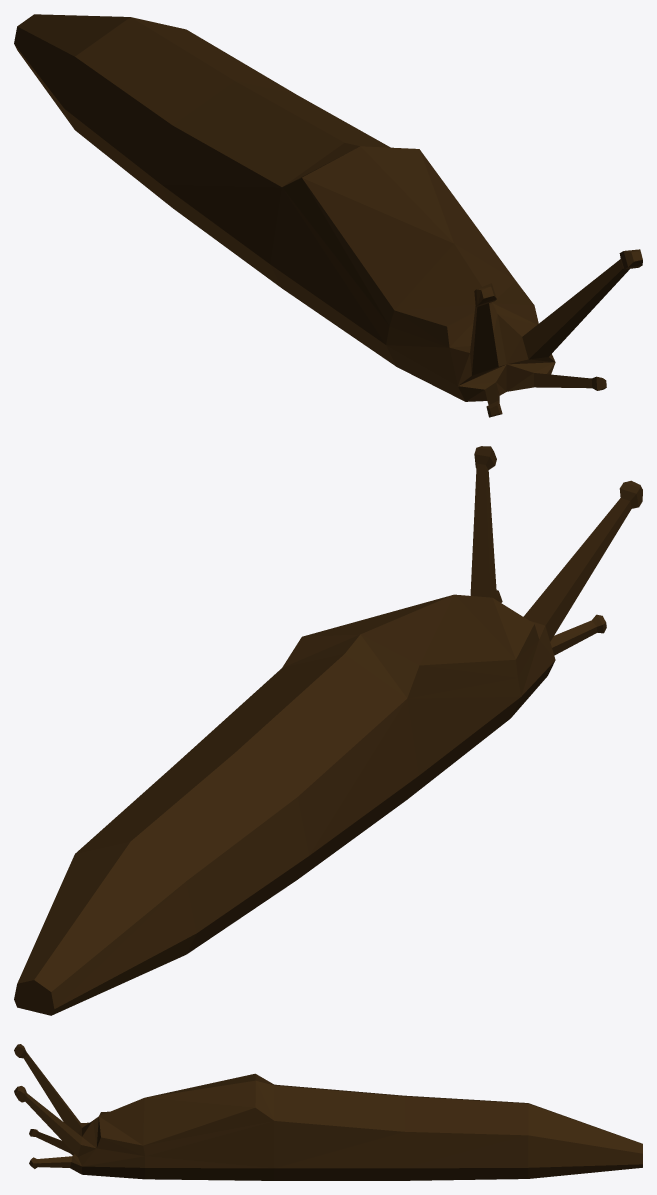
Rendered from aab67463-332d-4f61-8b21-426f9f25f4f9.glb.
3 views of the same model, one above another, from view 1: azimuth 30°, elevation 25°; view 2: azimuth 150°, elevation 25°; view 3: azimuth 270°, elevation 25° (orthographic). The views are drawn at different scales.
Visible parts, largest first — view 1: Slug; view 2: Slug; view 3: Slug.
Boxes of the visible parts, bbox=[...] form: Slug: bbox=[14, 14, 642, 417]; Slug: bbox=[14, 446, 642, 1015]; Slug: bbox=[14, 1044, 642, 1180].
Size of the model in its own units: 18.91 by 17.78 by 105.
Materials: 1 (1 with a texture image).
